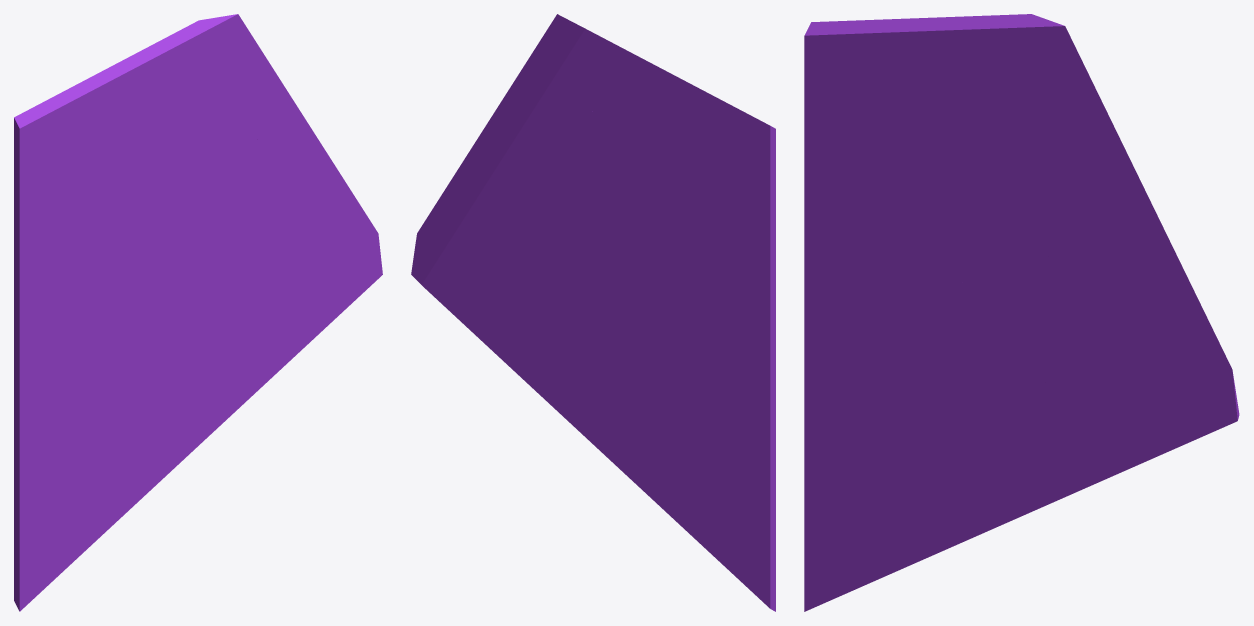
File: Glass_85_3_chunks.fbx
3 views of the same model, side by side, from view 1: azimuth 30°, elevation 25°; view 2: azimuth 150°, elevation 25°; view 3: azimuth 330°, elevation 25° (orthographic). The views are drawn at different scales.
Visible parts, largest first — view 1: Glass_85_3_5, Glass_85_3_11, Glass_85_3_2, Glass_85_3_7, Glass_85_3_33, Glass_85_3_35, Glass_85_3_9, Glass_85_3_0, Glass_85_3_20, Glass_85_3_12, Glass_85_3_17, Glass_85_3_4 (+18 smaller); view 2: Glass_85_3_5, Glass_85_3_11, Glass_85_3_9, Glass_85_3_2, Glass_85_3_4, Glass_85_3_7, Glass_85_3_33, Glass_85_3_17, Glass_85_3_35, Glass_85_3_20, Glass_85_3_32, Glass_85_3_8 (+16 smaller); view 3: Glass_85_3_5, Glass_85_3_2, Glass_85_3_11, Glass_85_3_7, Glass_85_3_33, Glass_85_3_0, Glass_85_3_35, Glass_85_3_9, Glass_85_3_20, Glass_85_3_12, Glass_85_3_17, Glass_85_3_4 (+18 smaller).
Boxes of the visible parts, box(x1,y1,x2,y2) form: Glass_85_3_5: box(14, 412, 127, 611); Glass_85_3_11: box(14, 94, 82, 267); Glass_85_3_2: box(250, 196, 382, 292); Glass_85_3_7: box(14, 319, 127, 435); Glass_85_3_33: box(58, 61, 178, 187); Glass_85_3_35: box(121, 14, 245, 114); Glass_85_3_9: box(14, 236, 111, 362); Glass_85_3_0: box(190, 146, 354, 260); Glass_85_3_20: box(164, 241, 260, 363); Glass_85_3_12: box(71, 112, 126, 249); Glass_85_3_17: box(98, 361, 203, 538); Glass_85_3_4: box(147, 155, 257, 237); Glass_85_3_5: box(660, 416, 775, 611); Glass_85_3_11: box(706, 103, 775, 274); Glass_85_3_9: box(678, 231, 775, 365); Glass_85_3_2: box(411, 196, 537, 294); Glass_85_3_4: box(500, 162, 649, 263); Glass_85_3_7: box(668, 316, 775, 438); Glass_85_3_33: box(619, 70, 725, 191); Glass_85_3_17: box(578, 365, 689, 533); Glass_85_3_35: box(550, 14, 663, 115); Glass_85_3_20: box(526, 240, 626, 367); Glass_85_3_32: box(504, 26, 568, 161); Glass_85_3_8: box(624, 330, 702, 437); Glass_85_3_5: box(804, 402, 932, 611); Glass_85_3_2: box(1079, 303, 1239, 421); Glass_85_3_11: box(804, 20, 878, 194); Glass_85_3_7: box(804, 304, 933, 414); Glass_85_3_33: box(863, 17, 994, 180); Glass_85_3_0: box(1008, 233, 1203, 310); Glass_85_3_35: box(938, 14, 1073, 113); Glass_85_3_9: box(804, 200, 914, 314); Glass_85_3_20: box(976, 299, 1091, 414); Glass_85_3_12: box(866, 51, 931, 233); Glass_85_3_17: box(898, 400, 1023, 570); Glass_85_3_4: box(957, 180, 1088, 264).
Bounding box in the file's own units: 1016 × 1456 × 27.2.
